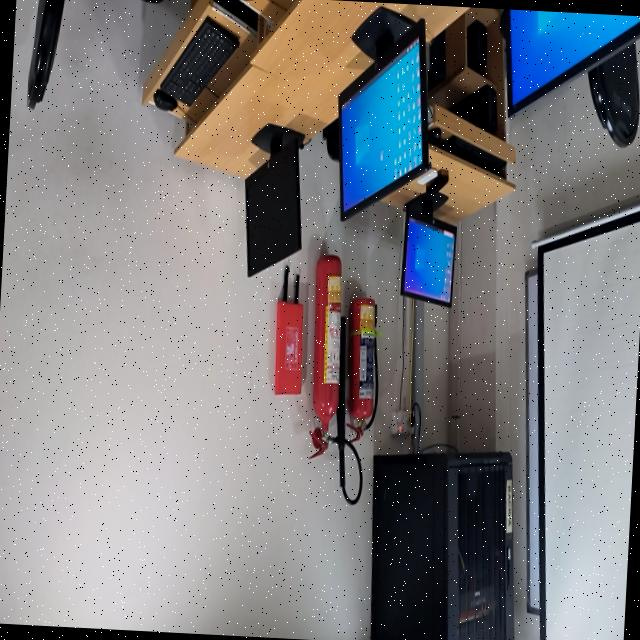Chair: (588, 43, 640, 148), (27, 0, 65, 109)
Cpu: (429, 31, 446, 90)
Fire Extinguisher: (309, 256, 341, 459), (349, 298, 377, 422)
Keyboard: (161, 19, 240, 105)
Monitor: (338, 7, 431, 221), (501, 9, 640, 119), (245, 124, 305, 277), (401, 183, 457, 308)
Mouse: (154, 90, 178, 112)
